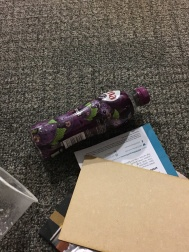bottle_purple: (10, 70, 159, 155)
